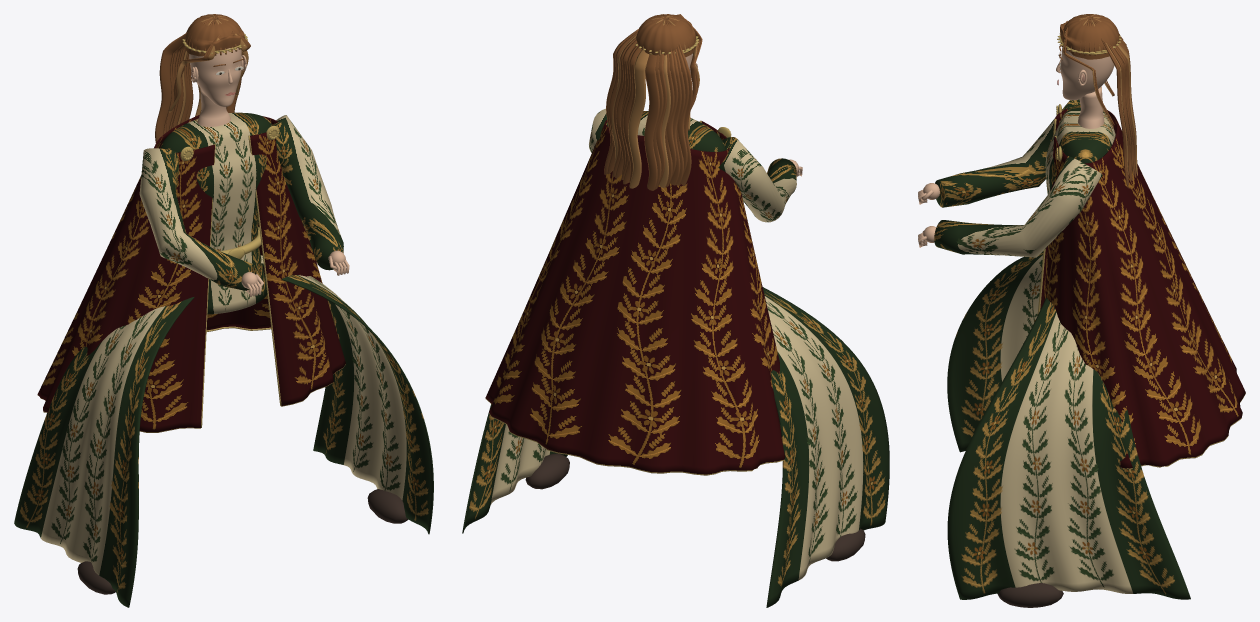
Rendered from princess-v14-mounted.glb.
The picture shows the model from 3 angles, left to right: view 1: azimuth 30°, elevation 25°; view 2: azimuth 150°, elevation 25°; view 3: azimuth 270°, elevation 25°; orthographic projection.
Visible parts, largest first — view 1: MorrisPrincess_surface, cape_surface, body_surface, head_surface, armL_surface, armR_surface; view 2: cape_surface, MorrisPrincess_surface, head_surface, armL_surface, body_surface; view 3: MorrisPrincess_surface, cape_surface, armR_surface, head_surface, armL_surface, body_surface.
Boxes of the visible parts, x1,y1,x2,y2 form: MorrisPrincess_surface: [14, 255, 433, 607]; cape_surface: [37, 115, 345, 432]; body_surface: [160, 88, 279, 314]; head_surface: [155, 14, 250, 142]; armL_surface: [139, 148, 263, 296]; armR_surface: [272, 115, 349, 275]; cape_surface: [485, 120, 785, 475]; MorrisPrincess_surface: [462, 287, 889, 607]; head_surface: [604, 14, 702, 190]; armL_surface: [718, 137, 802, 222]; body_surface: [637, 111, 731, 151]; MorrisPrincess_surface: [947, 251, 1190, 607]; cape_surface: [1037, 108, 1245, 469]; armR_surface: [918, 156, 1102, 257]; head_surface: [1056, 14, 1137, 188]; armL_surface: [918, 99, 1080, 207]; body_surface: [1045, 86, 1115, 194].
Size of the model in its own units: 0.948 by 1.46 by 0.8373.
12 materials, 2 textured.
